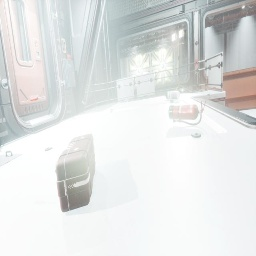0: (164, 91, 180, 99)
EmergencyPhone ,: (61, 34, 66, 54)
FireAlarm ,: (67, 54, 71, 60), (195, 59, 198, 66)
FireExtinguisher ]: (168, 101, 206, 126)
FirstAidBox ,: (55, 134, 96, 212)
SafetySwitchPanel ,: (0, 75, 1, 80)
